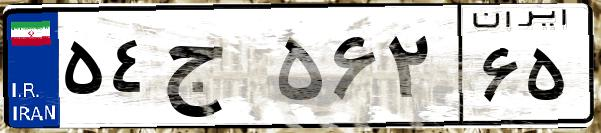2: (385, 28, 445, 110)
4: (110, 28, 158, 98)
5: (270, 28, 330, 110), (57, 26, 110, 100), (525, 38, 570, 115)
6: (330, 28, 385, 110), (475, 38, 525, 113)
ج: (158, 20, 270, 120)
